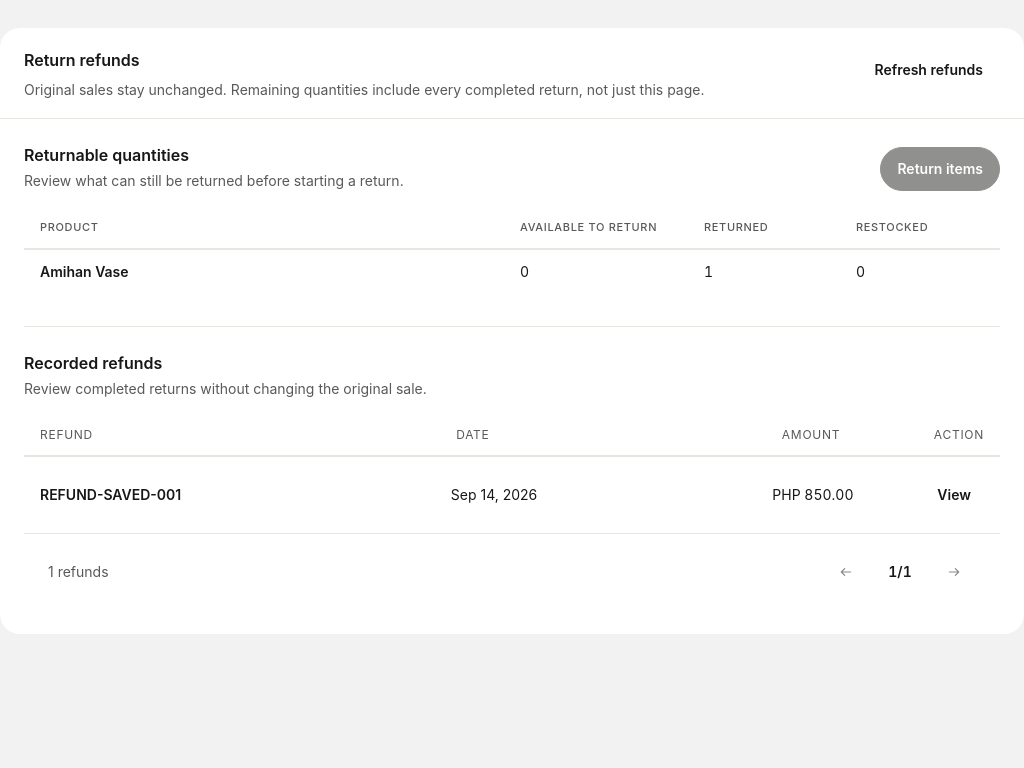
saved refund history and role privacy › shows immutable staff refund details and all-page remaining for OWNER
Expected: the text "Available to return" is shown, left=520, top=219, right=680, bottom=236
Expected: the text "Returned" is shown, left=704, top=220, right=768, bottom=234
What coordinates should you click on to do the following:
click the button "View"
I would click on:
 (954, 494)
Its box is left=924, top=472, right=984, bottom=516.
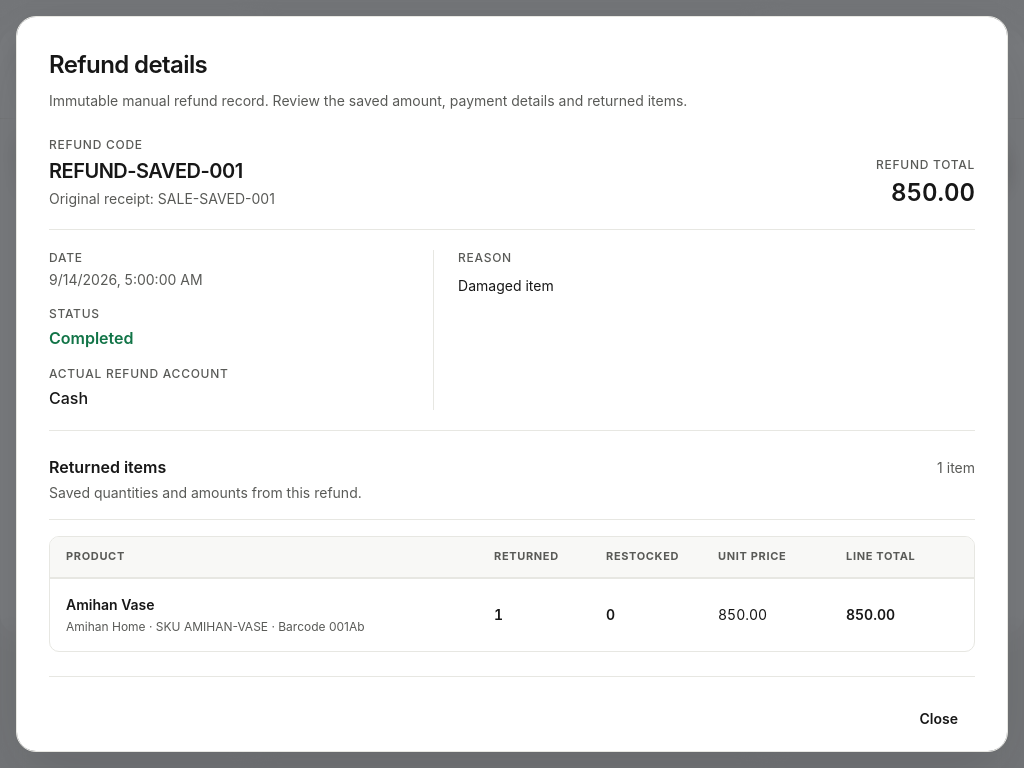
Expected: the text "Damaged item" is shown, left=458, top=277, right=554, bottom=294
Expected: the text "Actual refund account" is shown, left=49, top=366, right=228, bottom=381
Expected: the text "Date" is shown, left=49, top=250, right=83, bottom=265
